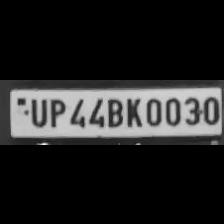0: (142, 94, 164, 125), (162, 94, 182, 124), (201, 93, 221, 123)
3: (182, 94, 200, 124)
4: (66, 96, 86, 127), (86, 94, 104, 126)
B: (104, 96, 122, 127)
K: (124, 94, 142, 128)
P: (46, 95, 66, 127)
U: (28, 96, 46, 127)
